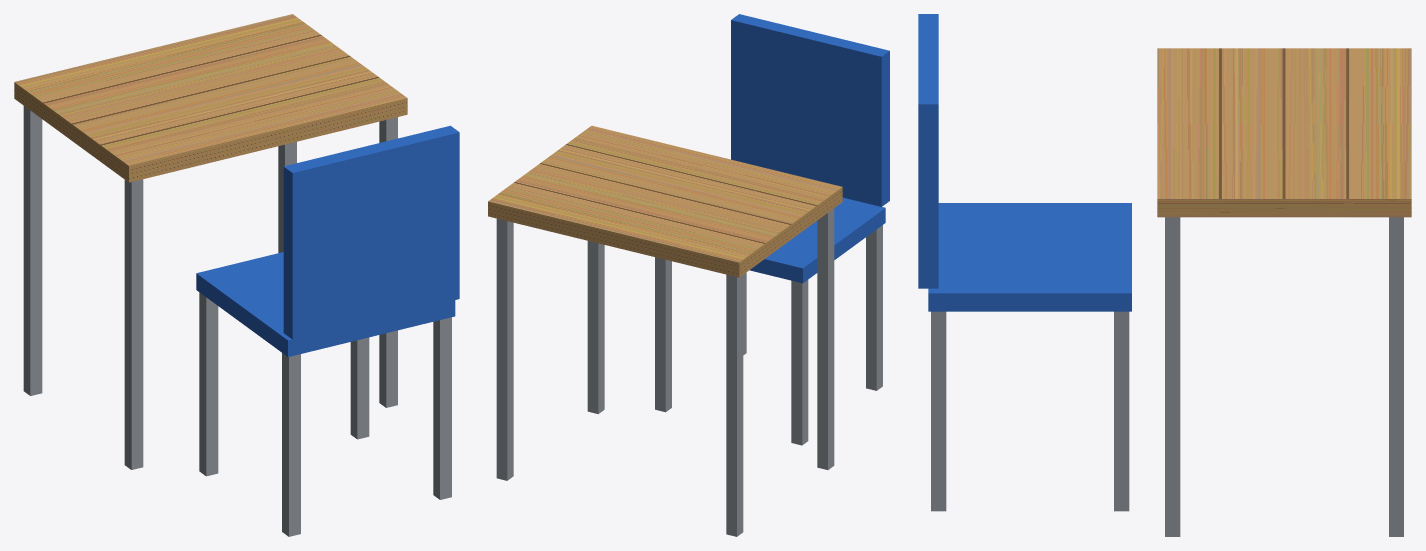
Rendered from school_desk.glb.
3 views of the same model, side by side, from view 1: azimuth 30°, elevation 25°; view 2: azimuth 150°, elevation 25°; view 3: azimuth 270°, elevation 25° (orthographic). The views are drawn at different scales.
Visible parts, largest first — view 1: school_desk; view 2: school_desk; view 3: school_desk.
Boxes of the visible parts, x1,y1,x2,y2 form: school_desk: (14,14,459,536); school_desk: (488,14,889,536); school_desk: (918,14,1411,536).
Size of the model in its own units: 0.7 by 0.885 by 0.97.
3 materials, 1 textured.
